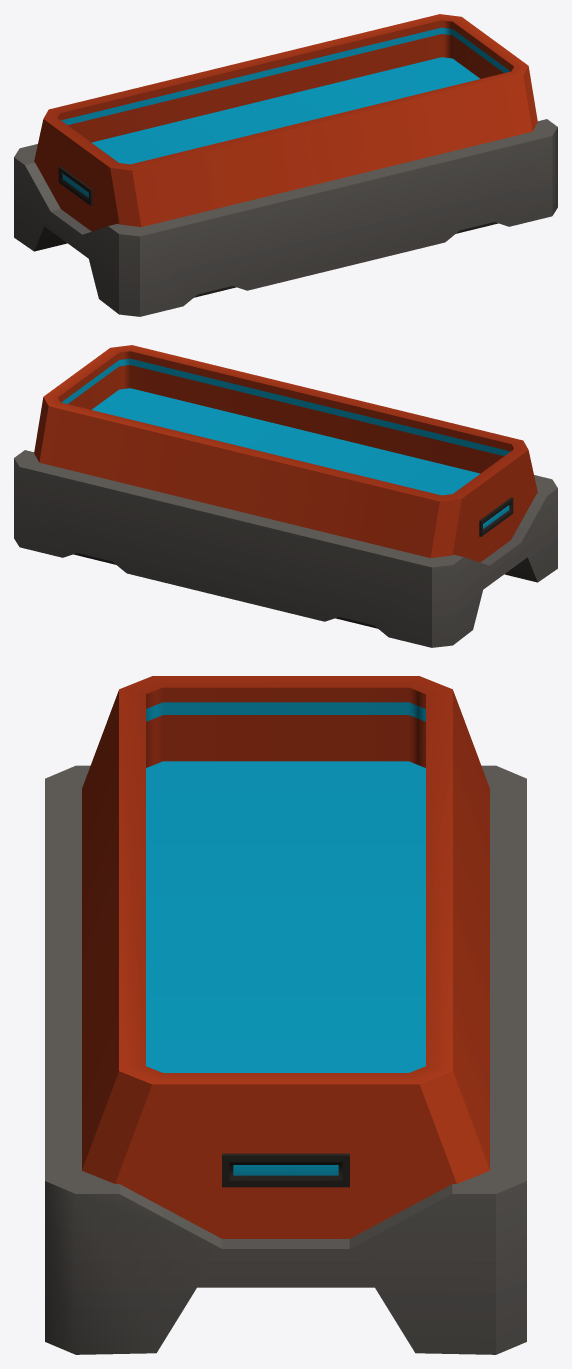
File: Charging_Station_03.fbx
The picture shows the model from 3 angles, top to bottom: view 1: azimuth 30°, elevation 25°; view 2: azimuth 150°, elevation 25°; view 3: azimuth 270°, elevation 25°; orthographic projection. The views are drawn at different scales.
Visible parts, largest first — view 1: Charging_Station_03; view 2: Charging_Station_03; view 3: Charging_Station_03.
Boxes of the visible parts, x1,y1,x2,y2 form: Charging_Station_03: (14, 14, 557, 316); Charging_Station_03: (14, 345, 557, 647); Charging_Station_03: (45, 676, 526, 1354).
Bounding box in the file's own units: 34.54 × 9.79 × 16.42.
